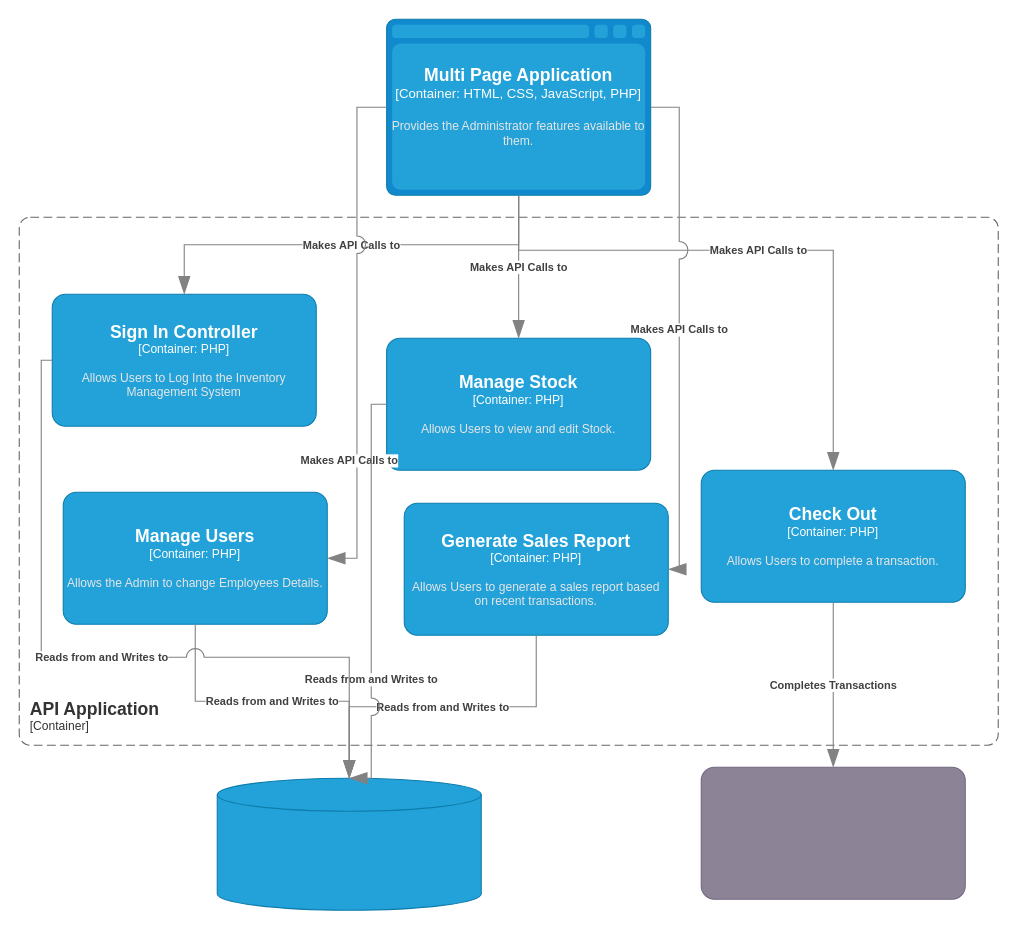
Some shapes in this 1018 by 930 pixel diagram are drawn without their labels. Each missing label, with the centre of its shape:
Database [Container: DB Browser] Stores Everything: point 348,843
External Payment System [Software System] Allows users to Complete Transactions.: point 832,832
